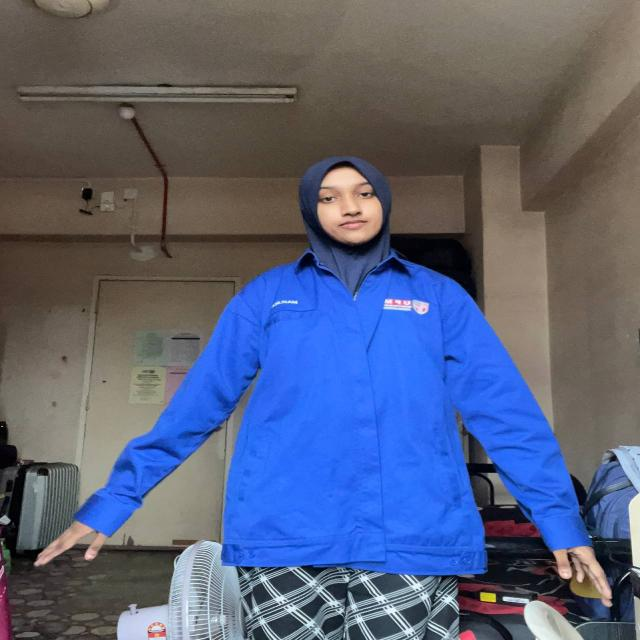person_with_labcoat: (36, 156, 609, 640)
